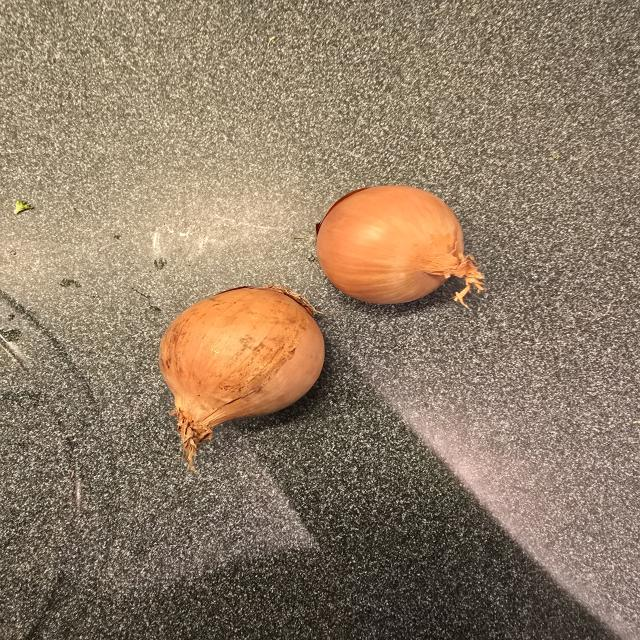Onion: (159, 287, 324, 465), (316, 186, 484, 305)
